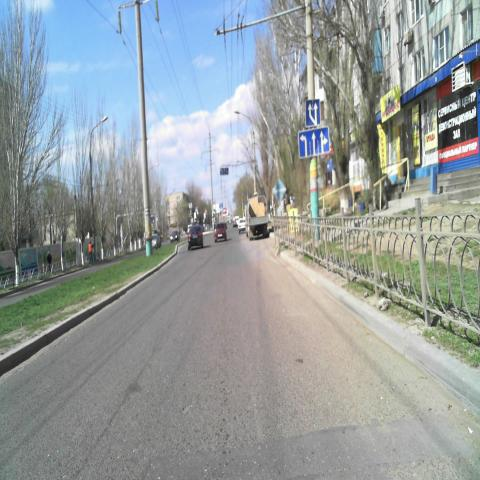5_15_1: (298, 127, 330, 157), (220, 166, 230, 176)
5_15_3: (304, 99, 320, 128)
